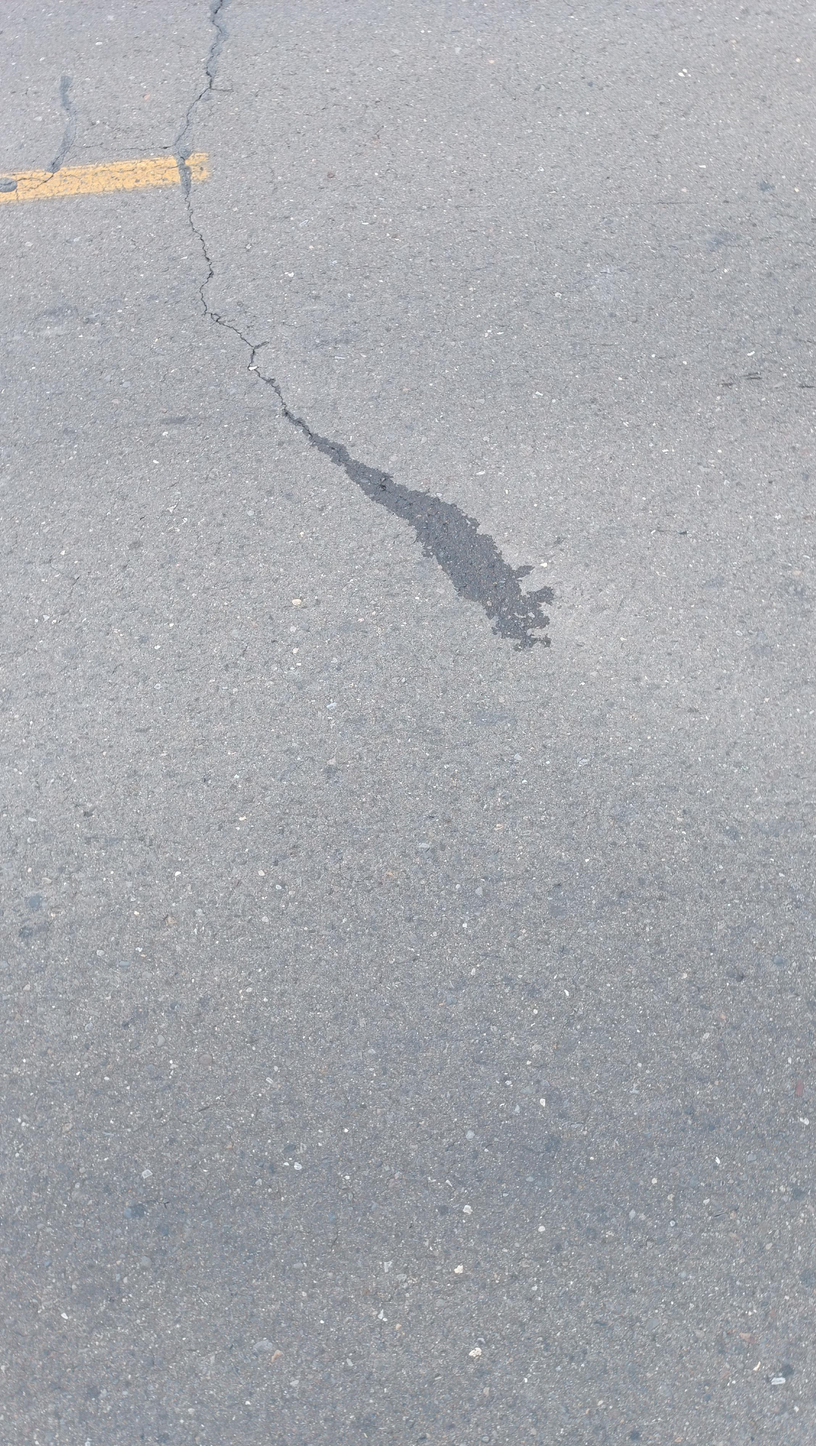GRIETA: (184, 197, 275, 386), (173, 70, 213, 147), (206, 0, 224, 69)
PARCHE: (264, 378, 554, 650)
